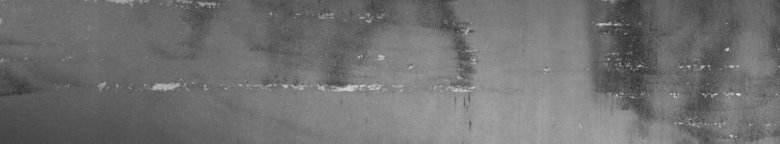hc: (544, 12, 776, 136)
